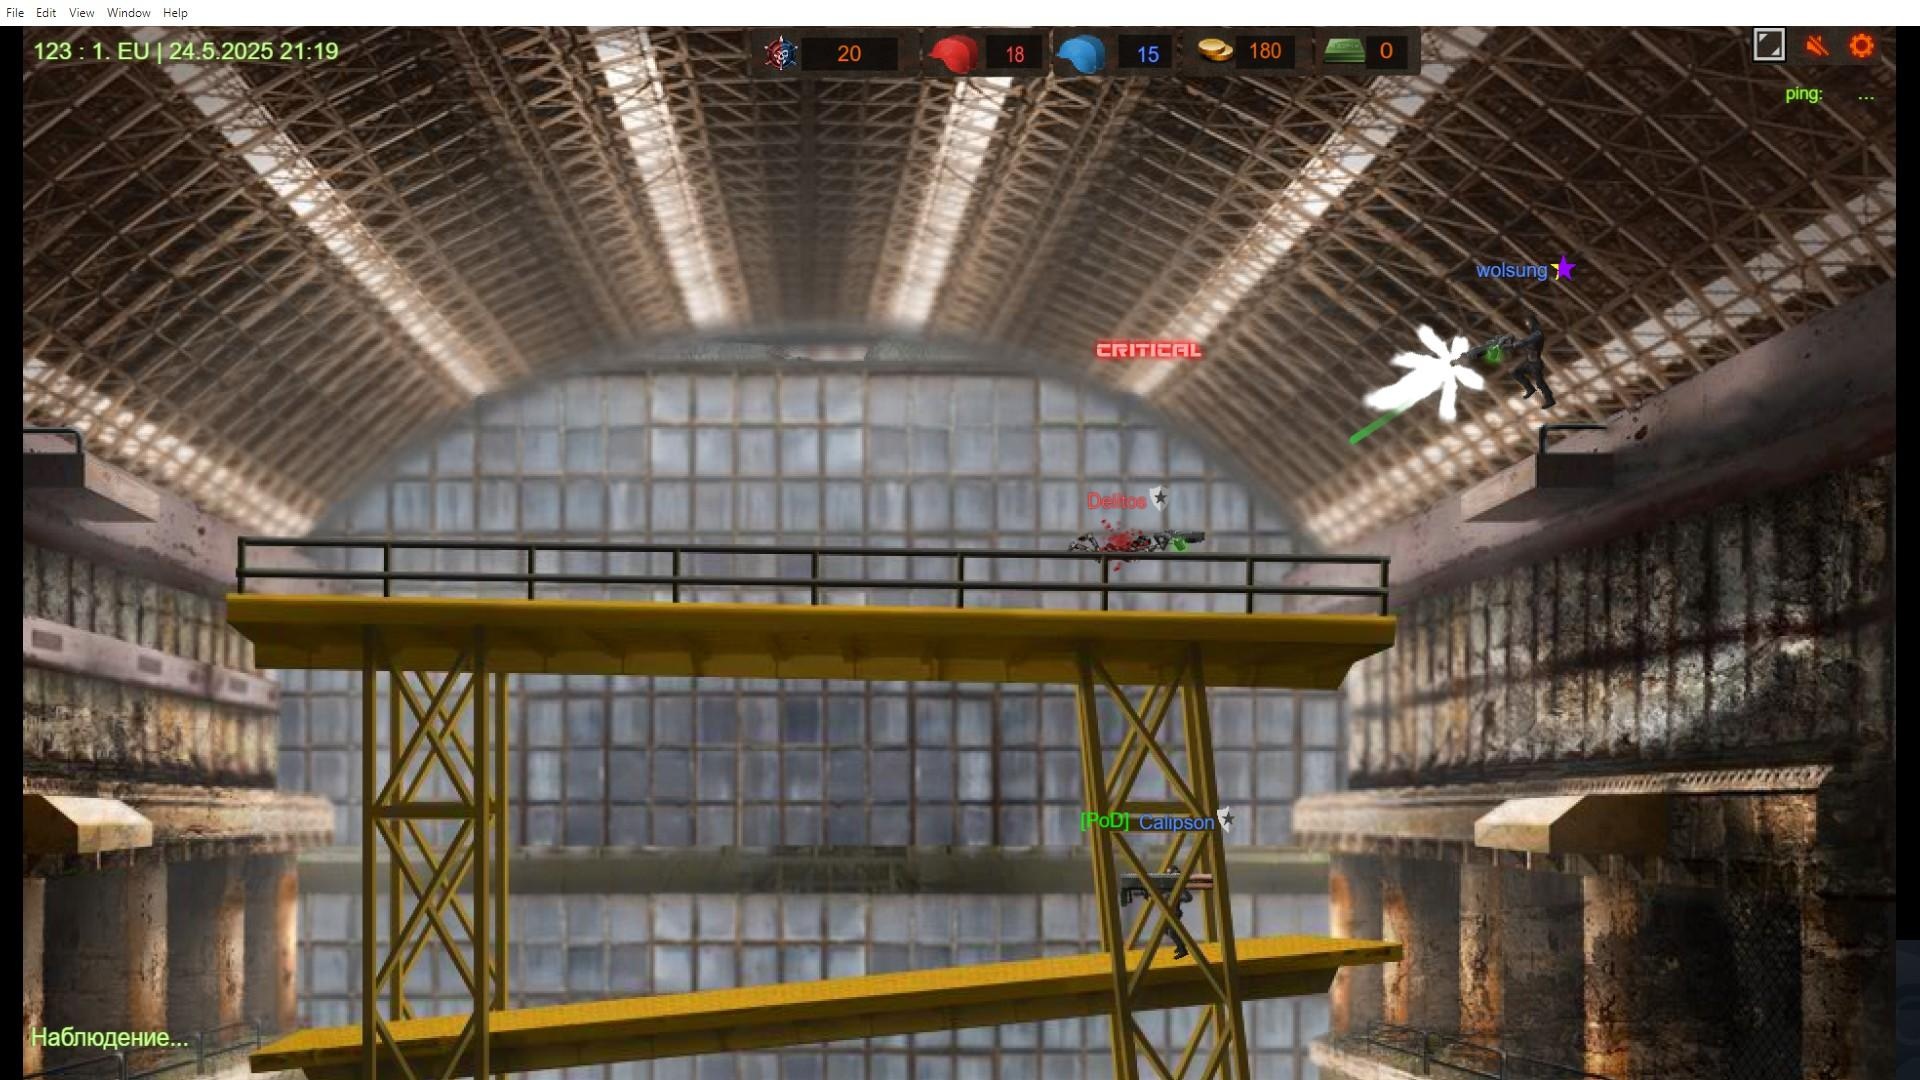enemy: (1068, 530, 1164, 566), (1163, 866, 1193, 957), (1519, 318, 1551, 402)
